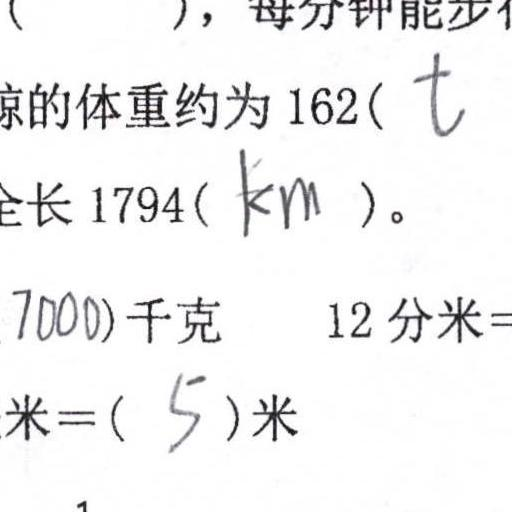ans: (233, 150, 325, 241), (7, 283, 100, 342), (407, 49, 467, 140), (160, 365, 207, 452)
